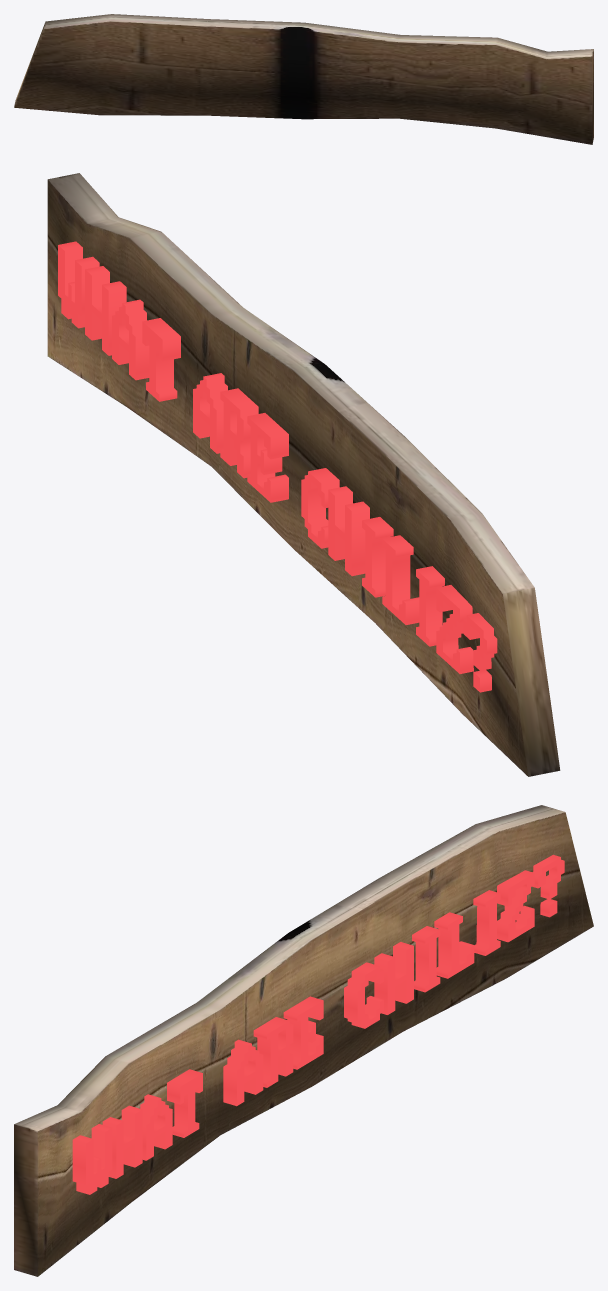
Rendered from sign1-transformed.glb.
3 views of the same model, one above another, from view 1: azimuth 30°, elevation 25°; view 2: azimuth 150°, elevation 25°; view 3: azimuth 270°, elevation 25° (orthographic). The views are drawn at different scales.
Visible parts, largest first — view 1: 1 about; view 2: 1 about; view 3: 1 about.
Part boxes in pixels (x1,y1,x2,y2): 1 about: (14, 14, 593, 144); 1 about: (47, 173, 560, 776); 1 about: (14, 805, 593, 1276).
Size of the model in its own units: 1.66 by 0.3957 by 1.21.
Materials: 2 (1 with a texture image).
